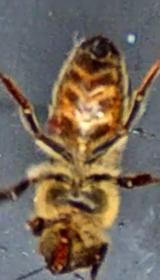varroa_mite: (37, 107, 73, 146)
